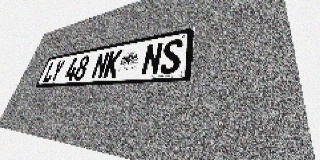4: (63, 57, 81, 81)
8: (72, 55, 91, 81)
K: (102, 49, 123, 78)
L: (42, 61, 58, 83)
N: (140, 42, 164, 76), (90, 51, 110, 79)
S: (159, 38, 183, 74)
Y: (49, 59, 66, 82)
